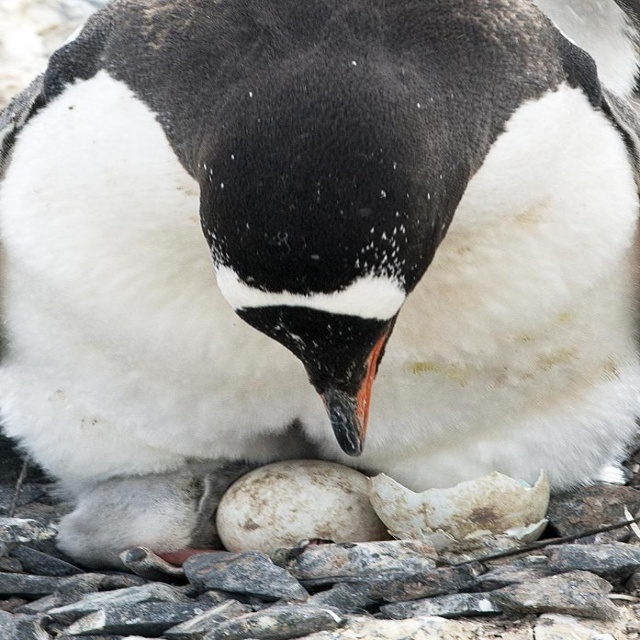Penguin: (0, 0, 611, 555)
